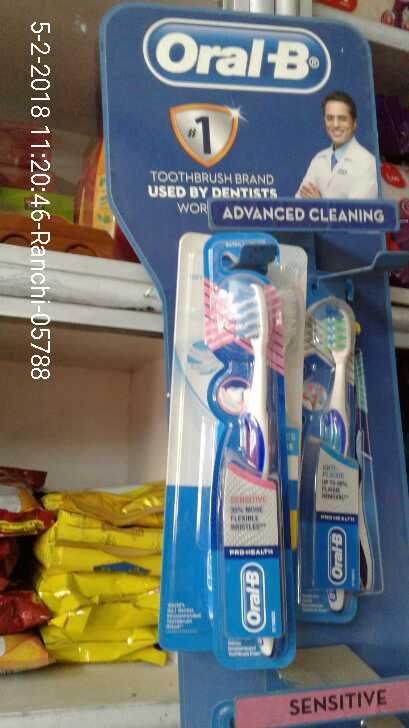oralb: (202, 238, 298, 648), (303, 273, 367, 587)
